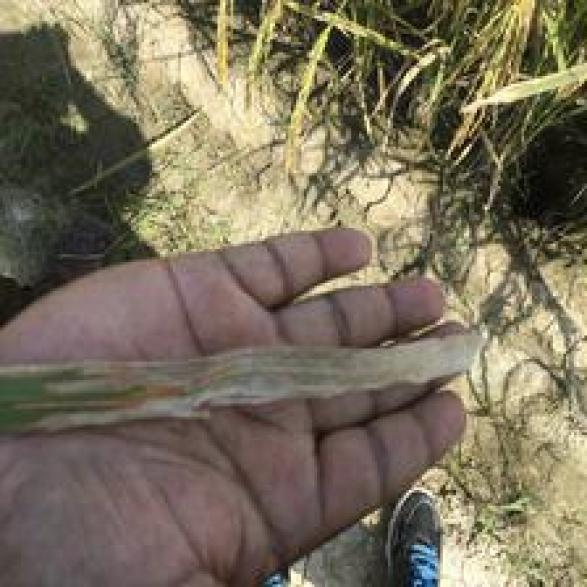Bacteria_Leaf_Blight: (131, 325, 498, 414)
